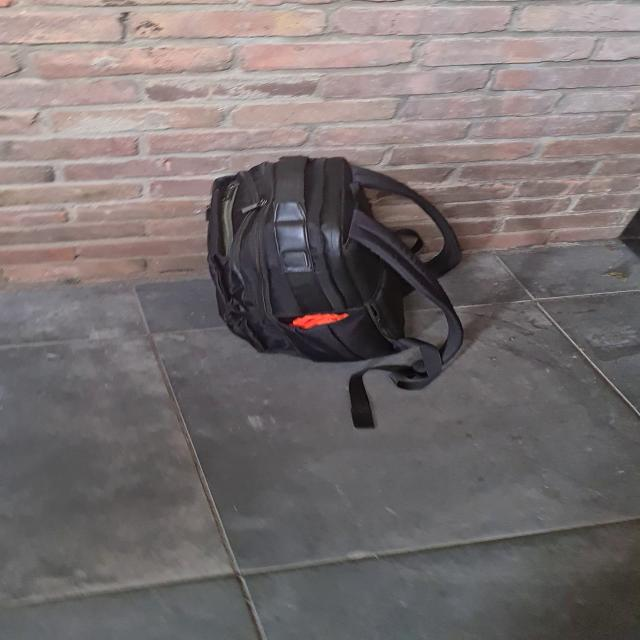backpack: (194, 147, 463, 377)
